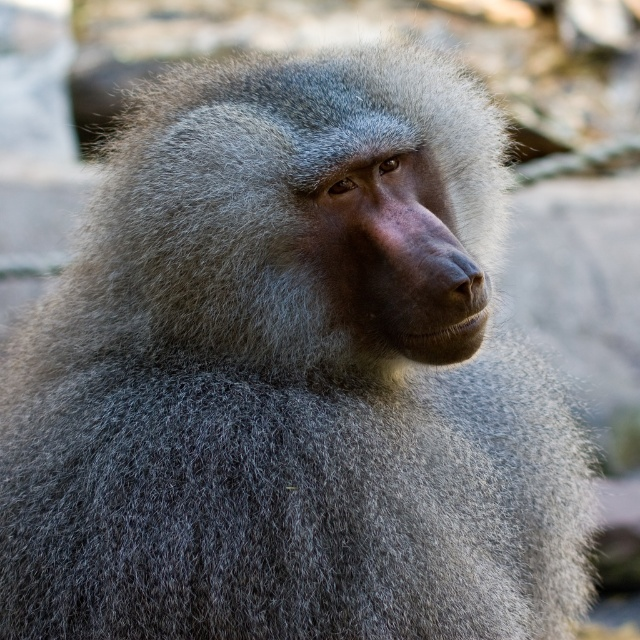Monkey: (0, 3, 612, 640)
